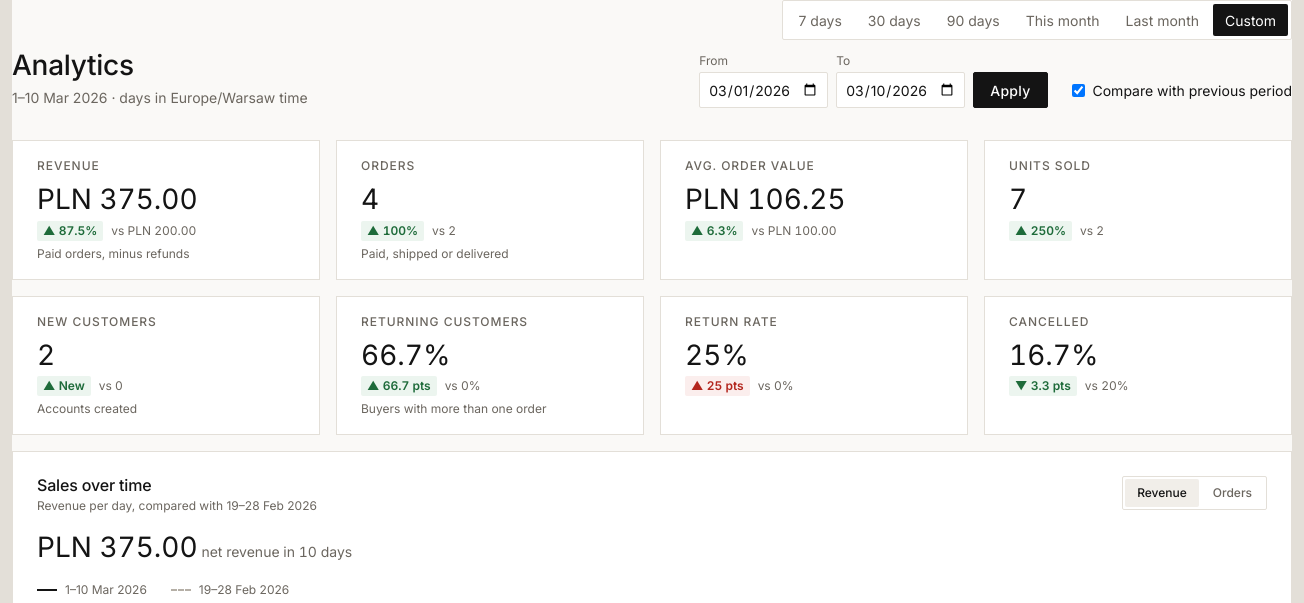
Scenario: Analytics › applies a custom range
Later steps or results of the test are not shown.
In the date field labelled "From": (764, 90) [699,72,828,108], type "2026-03-20"
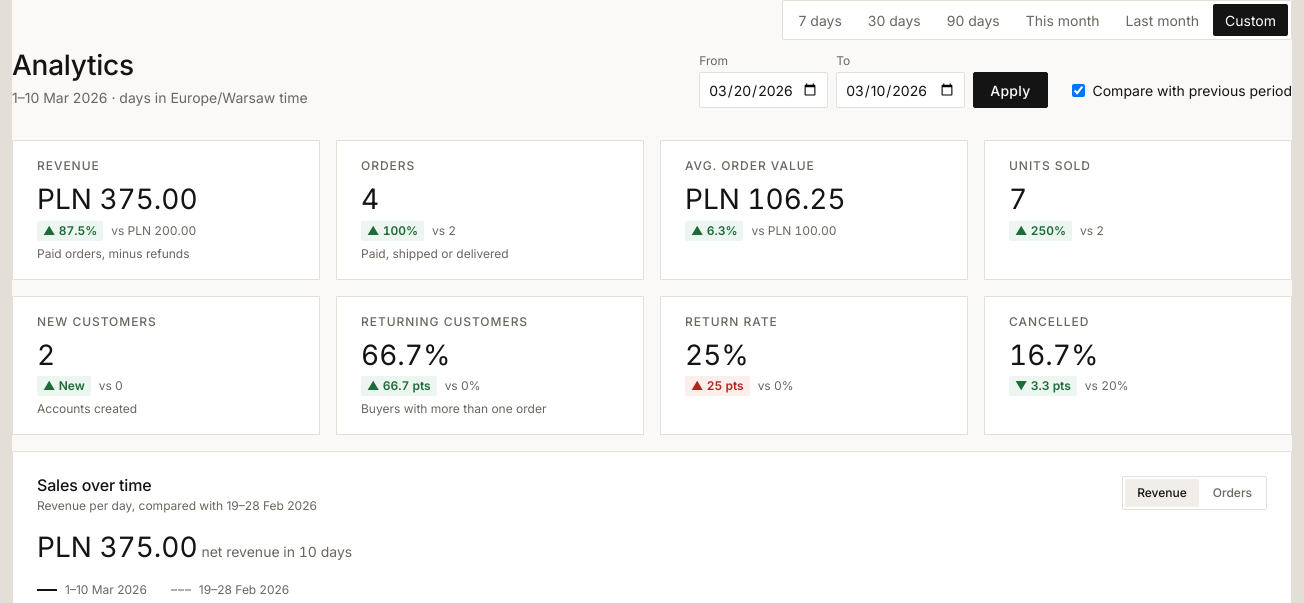
Click the button "Apply": (1010, 90) [973,72,1048,108]
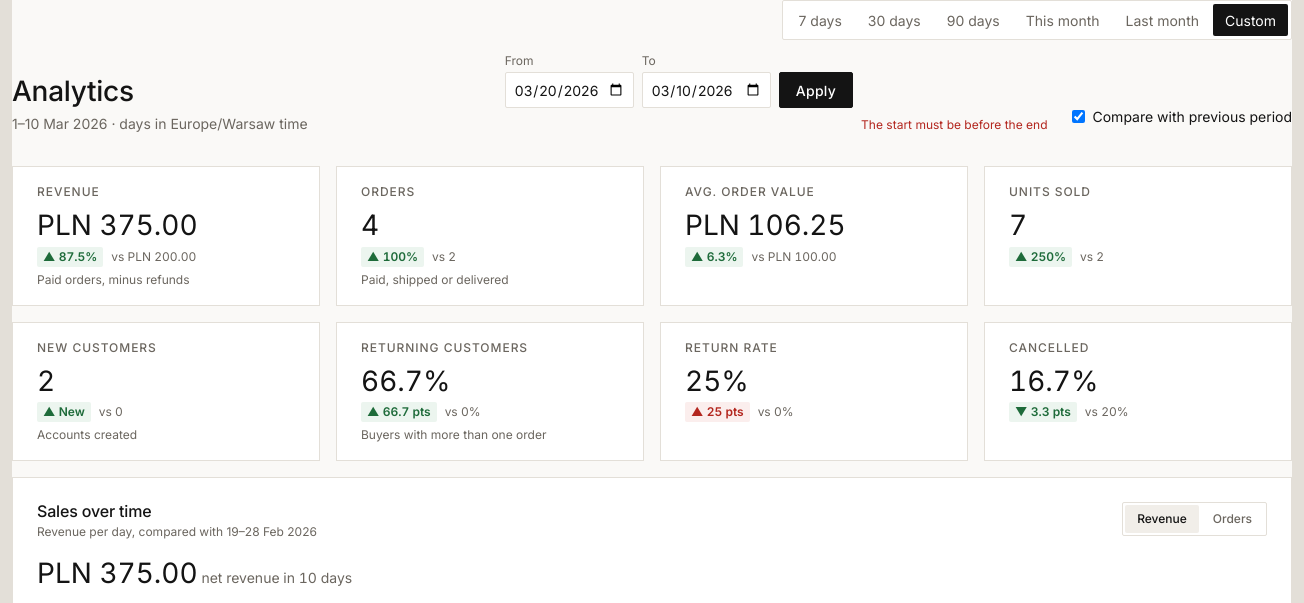
Now the message reads "The start must be before the end", box [861,117,1048,132]
